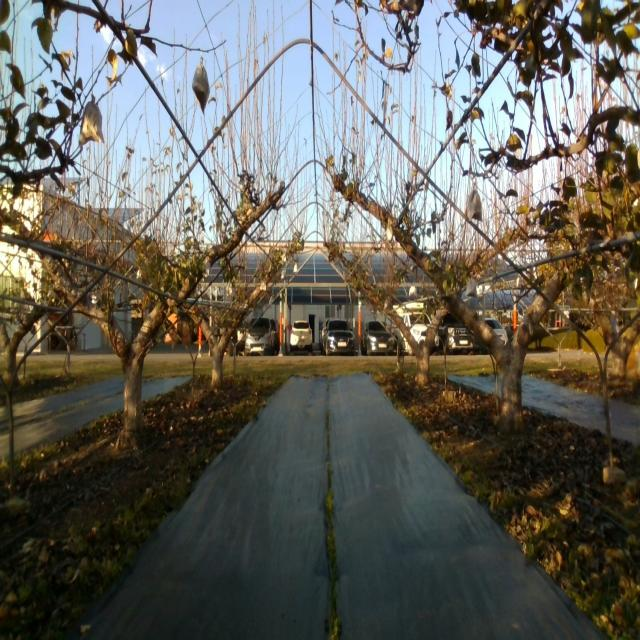pearbags: (78, 102, 105, 146), (192, 64, 210, 114), (467, 190, 483, 222), (464, 278, 478, 297)
